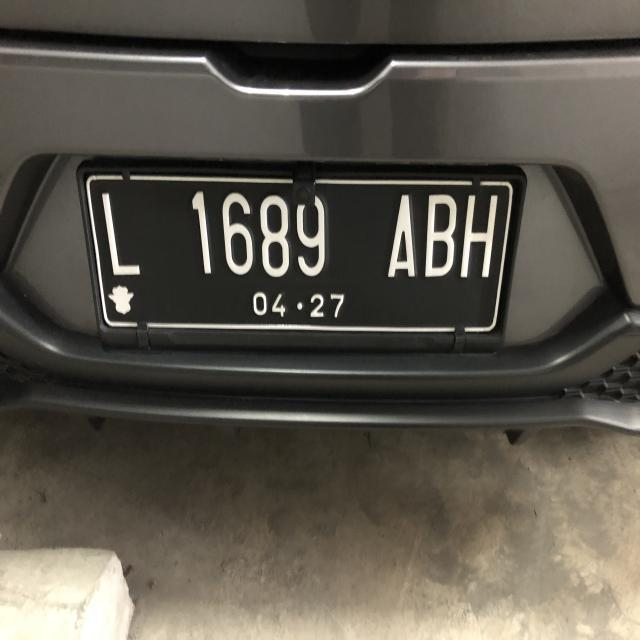1: (184, 186, 216, 275)
6: (223, 186, 260, 275)
8: (259, 186, 292, 284)
9: (295, 195, 331, 275)
A: (385, 190, 423, 284)
B: (428, 191, 456, 282)
H: (462, 190, 500, 286)
L: (98, 184, 146, 286)
